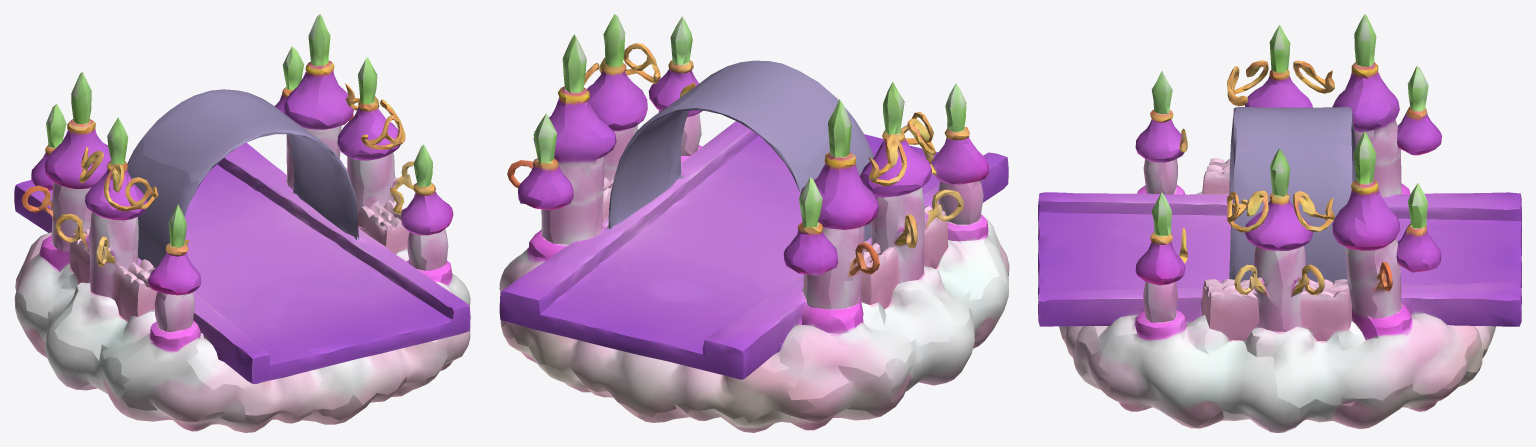
The model's file is castle-passage.glb.
3 renders of one model, left to right at view 1: azimuth 30°, elevation 25°; view 2: azimuth 150°, elevation 25°; view 3: azimuth 270°, elevation 25°, orthographic. The views are drawn at different scales.
Parts seen in each view (by area): view 1: world; view 2: world; view 3: world.
Part boxes in pixels (x1,y1,x2,y2): world: (14, 14, 470, 432); world: (499, 14, 1009, 432); world: (1038, 14, 1521, 432).
Size of the model in its own units: 0.35 by 0.2527 by 0.377.
Materials: 1 (1 with a texture image).
